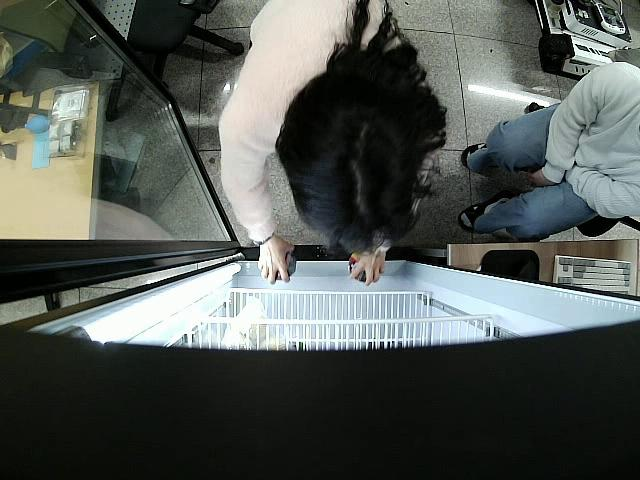00_hand: (259, 240, 293, 285), (349, 249, 385, 284)
08_buldak_S: (348, 253, 375, 282)
